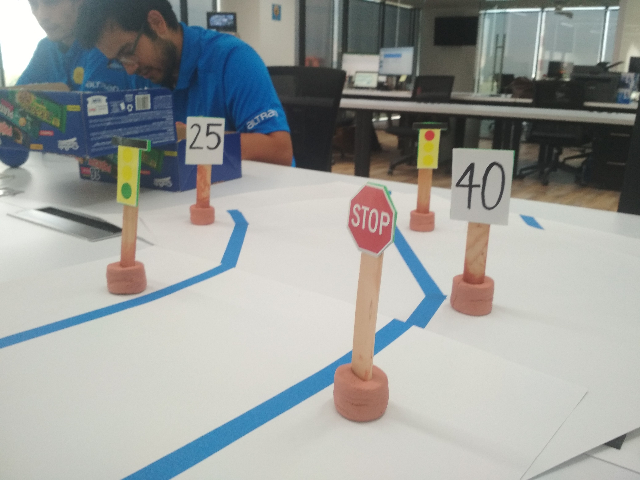Green Traffic Light: (111, 132, 147, 208)
Red Traffic Light: (410, 120, 448, 171)
Speed Limit 25: (184, 113, 225, 166)
Speed Limit 40: (447, 144, 514, 224)
Stop Sign: (348, 181, 397, 256)
